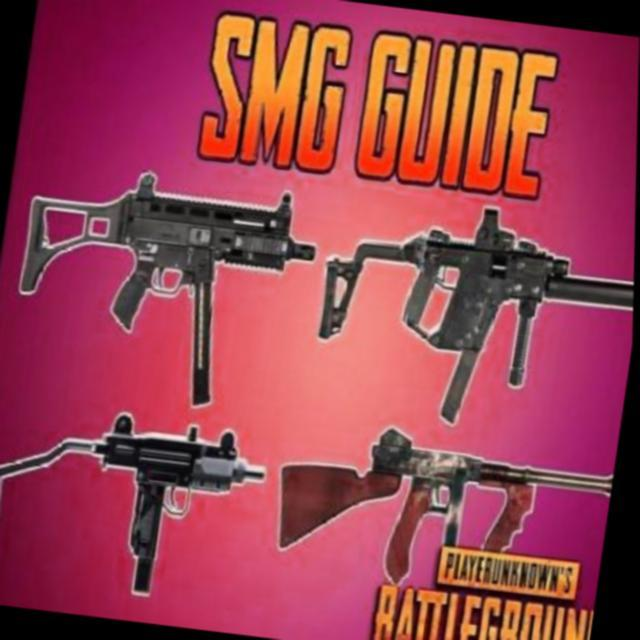weapon: (303, 184, 637, 445), (3, 154, 326, 418), (266, 411, 619, 609), (0, 394, 276, 608)
